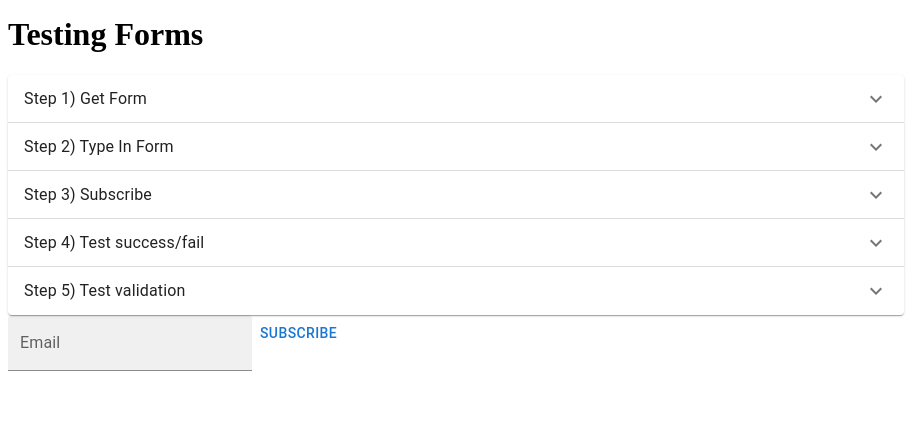
Test: Forms tests › Test subscribe form
Expected: the heading "Testing Forms" is shown, [8, 16, 203, 52]
Type "aaaa@aaa.com" into the field labelled "Email" at (130,343), box [8, 315, 252, 371]
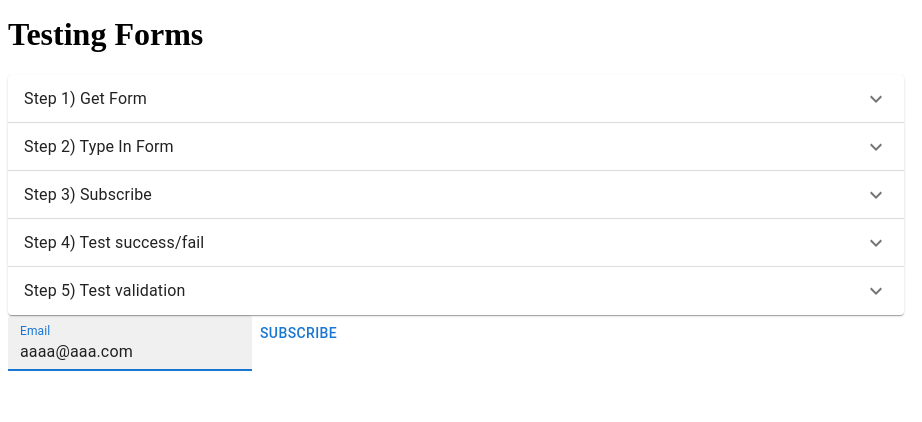
Click the button with test id "subscribe-button" at (299,334), box [252, 315, 345, 352]
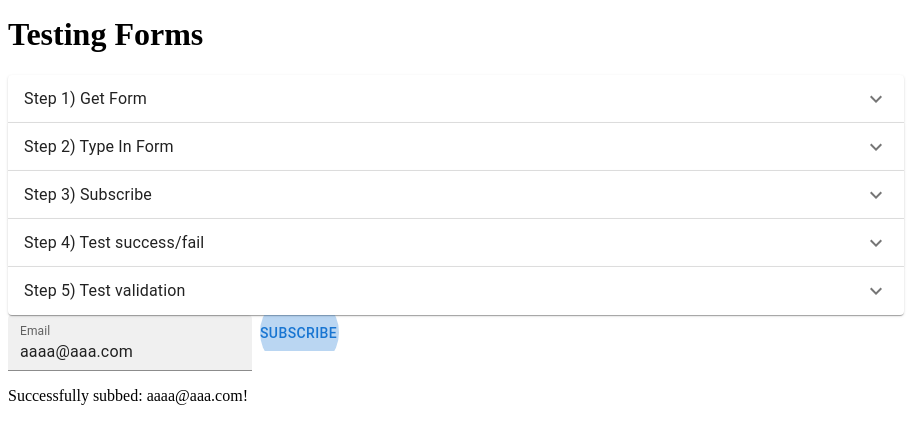
Now the text "Successfully subbed: aaaa@aaa.com!" is shown, box [8, 387, 248, 404]
